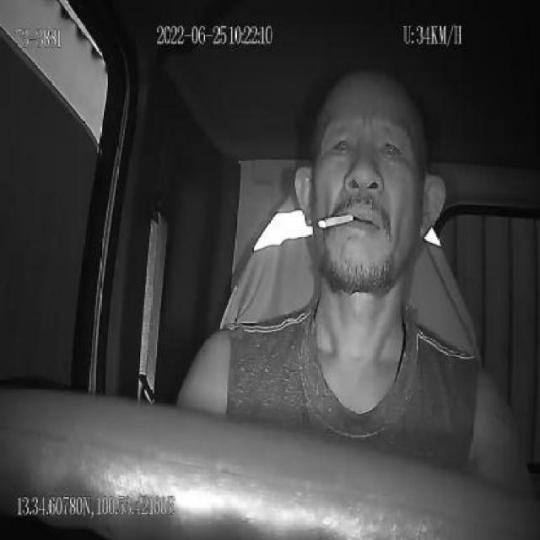smoking: (318, 214, 353, 230)
